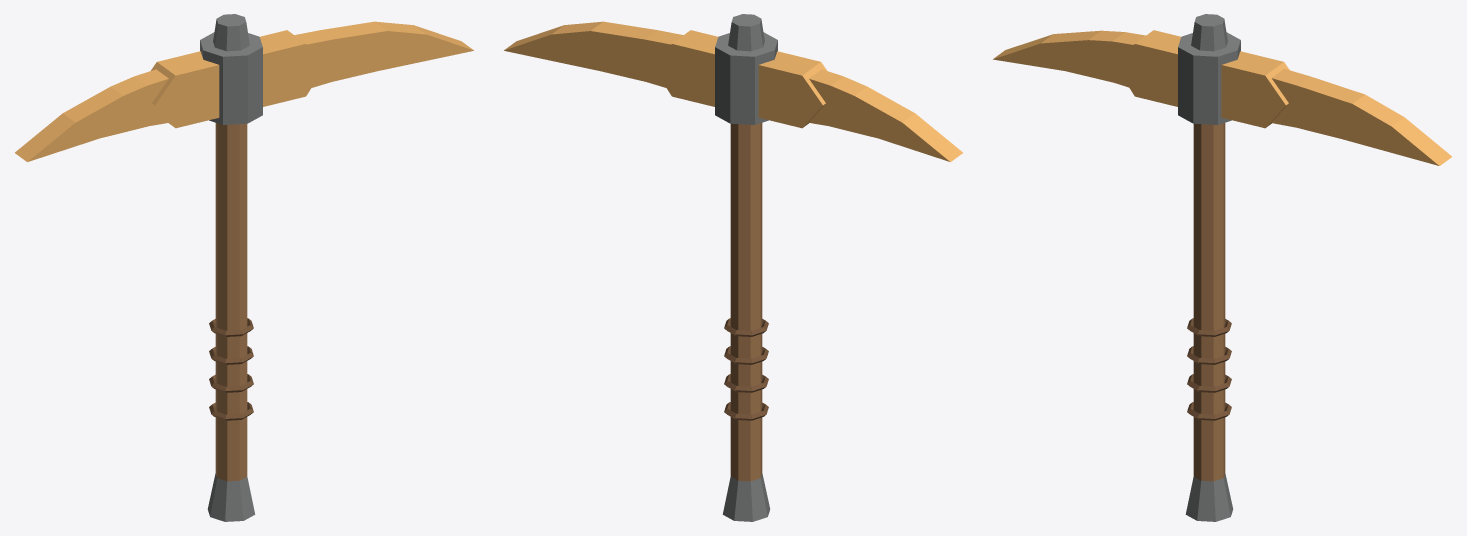
The model's file is t6_pickaxe.glb.
The picture shows the model from 3 angles, left to right: view 1: azimuth 30°, elevation 25°; view 2: azimuth 150°, elevation 25°; view 3: azimuth 330°, elevation 25°; orthographic projection.
Visible parts, largest first — view 1: WoodHandle, HeadCore, RightPickHead, LeftPickHead, HeadSocket, BottomPommel, TopCap; view 2: WoodHandle, HeadCore, RightPickHead, LeftPickHead, HeadSocket, BottomPommel, TopCap; view 3: WoodHandle, RightPickHead, HeadCore, LeftPickHead, HeadSocket, BottomPommel, TopCap.
Part boxes in pixels (x1,y1,x2,y2): WoodHandle: (215, 123, 247, 481); HeadCore: (151, 30, 326, 128); RightPickHead: (294, 21, 473, 87); LeftPickHead: (15, 69, 168, 161); HeadSocket: (200, 32, 262, 124); BottomPommel: (207, 473, 255, 521); TopCap: (213, 14, 249, 51); WoodHandle: (730, 123, 762, 481); HeadCore: (651, 30, 826, 128); RightPickHead: (504, 21, 683, 87); LeftPickHead: (809, 69, 962, 161); HeadSocket: (715, 32, 777, 124); BottomPommel: (722, 473, 770, 521); TopCap: (728, 14, 764, 51); WoodHandle: (1193, 123, 1225, 481); RightPickHead: (1271, 69, 1451, 165); HeadCore: (1114, 30, 1289, 128); LeftPickHead: (993, 30, 1145, 87); HeadSocket: (1178, 32, 1240, 124); BottomPommel: (1185, 473, 1233, 521); TopCap: (1191, 14, 1227, 51).
Bounding box in the file's own units: 1.51 × 1.59 × 0.19.
